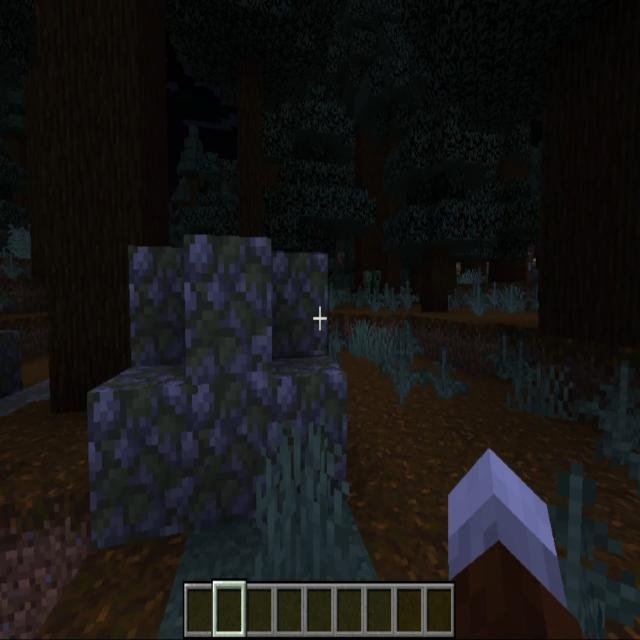Creeper: (363, 271, 372, 304), (374, 270, 382, 302)
